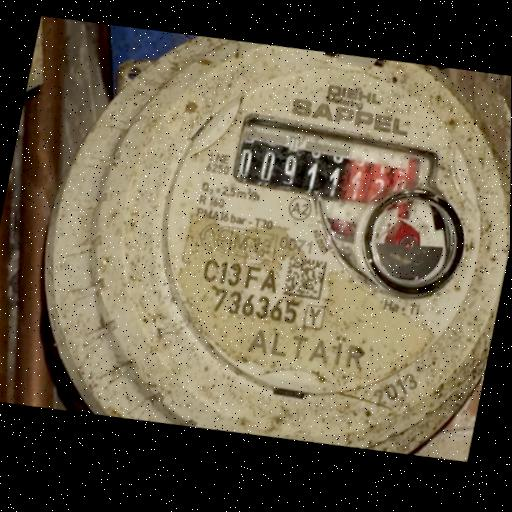0: (251, 139, 284, 191), (390, 153, 423, 197), (234, 135, 261, 186)
1: (316, 152, 352, 201), (341, 157, 375, 205), (295, 147, 328, 196)
2: (365, 162, 398, 208)
9: (274, 144, 306, 193)
border_water_meter_number: (228, 97, 446, 227)
